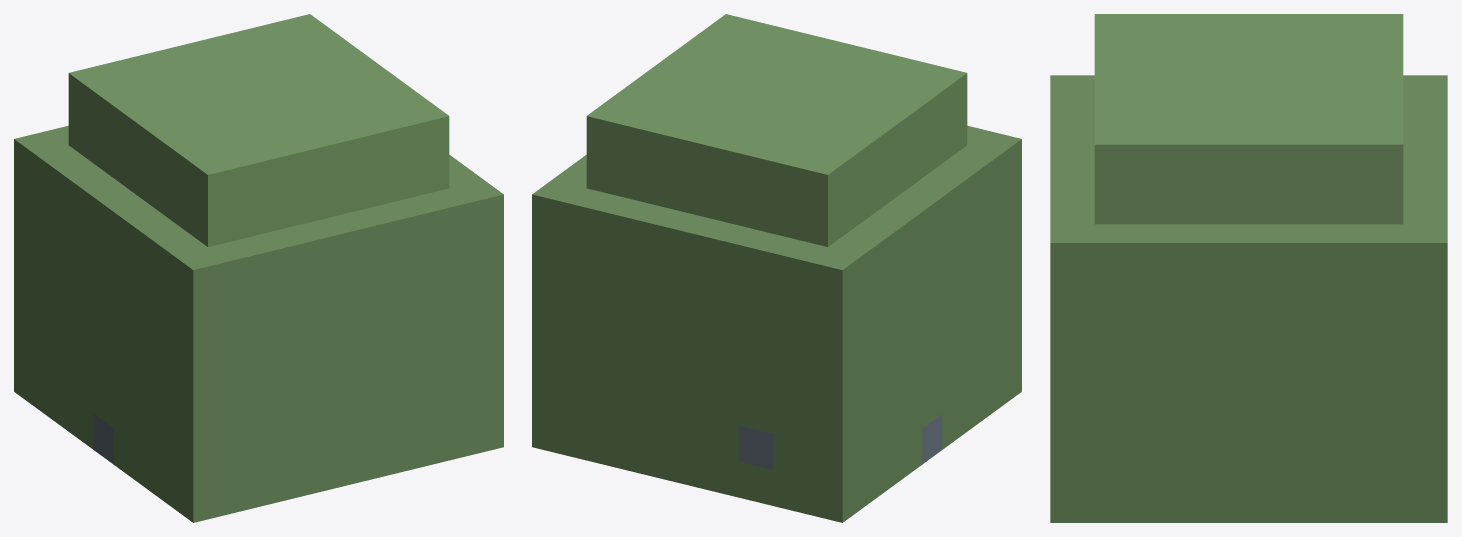
Rendered from baya_de_enebro_01.glb.
The picture shows the model from 3 angles, left to right: view 1: azimuth 30°, elevation 25°; view 2: azimuth 150°, elevation 25°; view 3: azimuth 270°, elevation 25°; orthographic projection. The views are drawn at different scales.
Parts seen in each view (by area): view 1: baya_de_enebro_01; view 2: baya_de_enebro_01; view 3: baya_de_enebro_01.
Boxes of the visible parts, x1,y1,x2,y2 form: baya_de_enebro_01: (14,14,503,522); baya_de_enebro_01: (532,14,1021,522); baya_de_enebro_01: (1050,14,1447,522).
Bounding box in the file's own units: 0.9 × 0.9 × 0.9.
